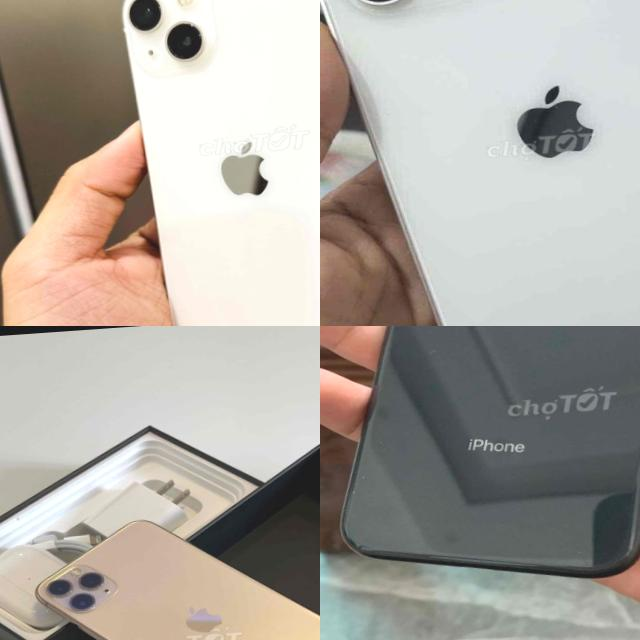gen_11: (23, 492, 320, 640)
gen_12_13: (320, 0, 640, 326), (113, 0, 320, 326)
gen_x_xs: (341, 326, 640, 576)
